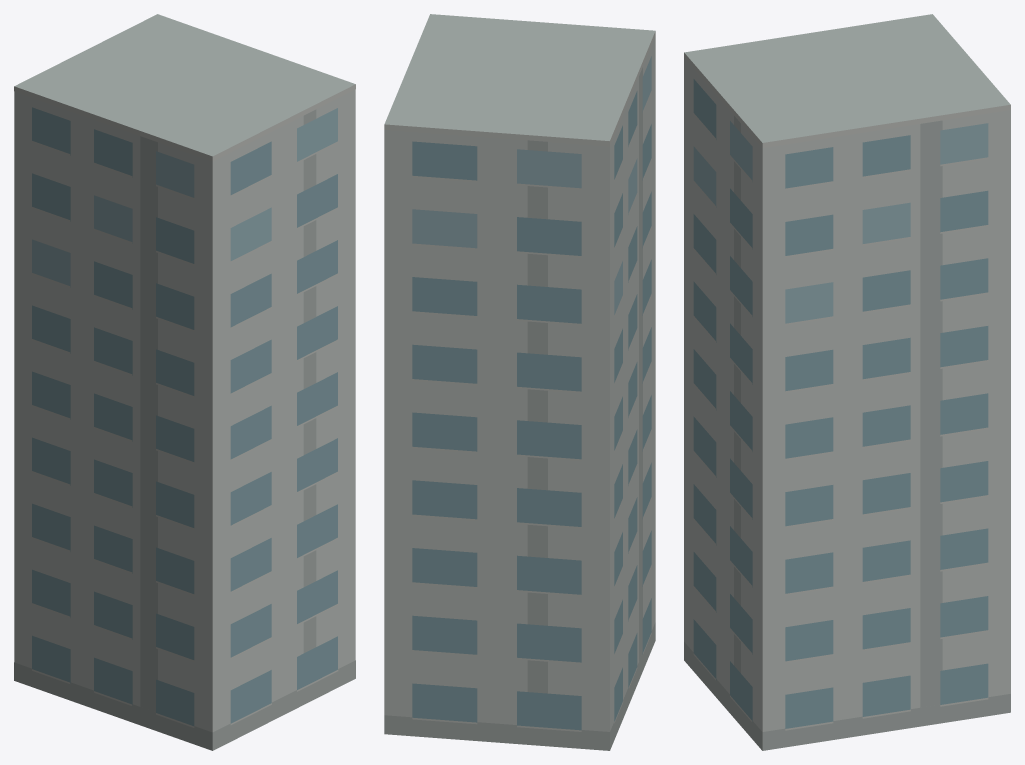
File: residential-28f06fed-9b5a-4e9e-bd6d-b2bae551b289.glb
3 views of the same model, side by side, from view 1: azimuth 30°, elevation 25°; view 2: azimuth 150°, elevation 25°; view 3: azimuth 270°, elevation 25° (orthographic). The views are drawn at different scales.
Parts seen in each view (by area): view 1: residential-28f06fed-9b5a-4e9e-bd6d-b2bae551b289.tmp; view 2: residential-28f06fed-9b5a-4e9e-bd6d-b2bae551b289.tmp; view 3: residential-28f06fed-9b5a-4e9e-bd6d-b2bae551b289.tmp.
Part boxes in pixels (left/top/right/bottom): residential-28f06fed-9b5a-4e9e-bd6d-b2bae551b289.tmp: left=14, top=14, right=355, bottom=750; residential-28f06fed-9b5a-4e9e-bd6d-b2bae551b289.tmp: left=384, top=14, right=655, bottom=750; residential-28f06fed-9b5a-4e9e-bd6d-b2bae551b289.tmp: left=684, top=14, right=1010, bottom=750.
Size of the model in its own units: 12.75 by 28 by 13.65.
